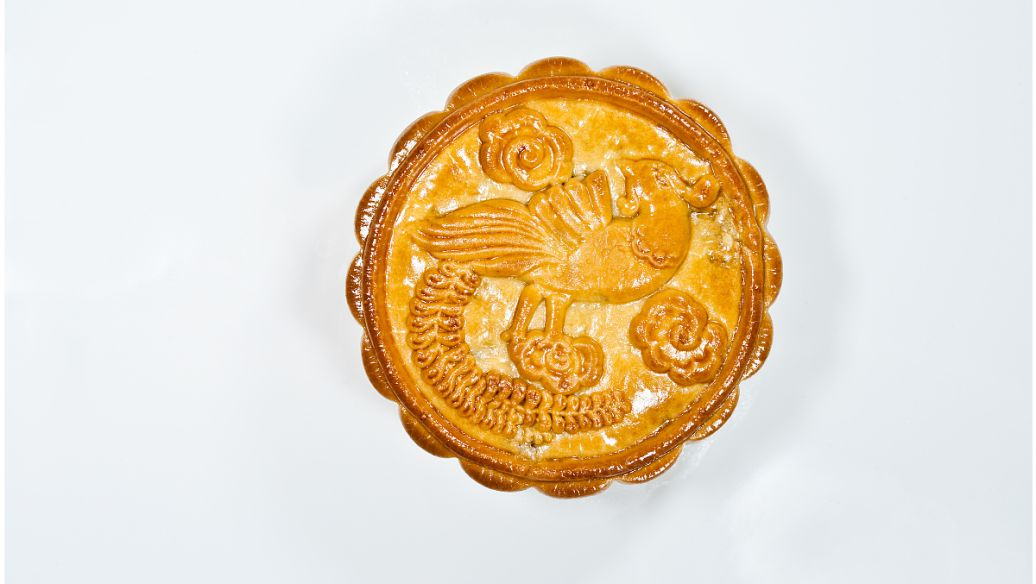MoonCake: (343, 55, 783, 499)
